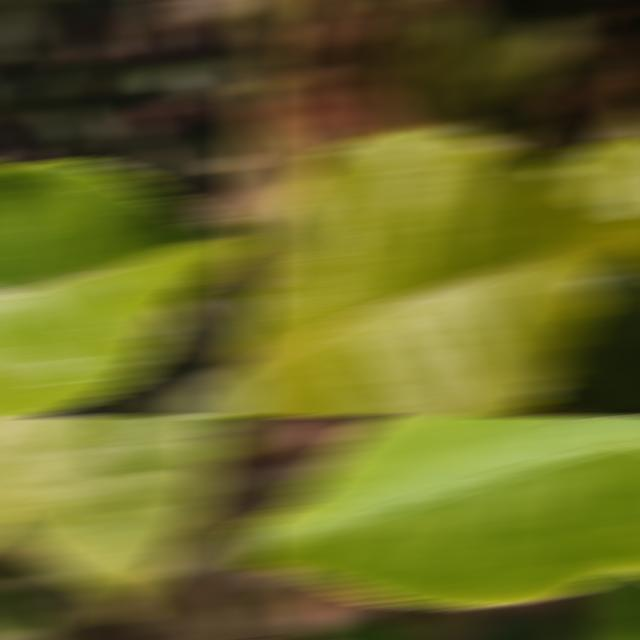Leaf: (238, 128, 640, 415), (238, 417, 640, 606), (0, 159, 253, 415), (0, 417, 222, 620), (527, 250, 640, 415), (238, 110, 313, 294), (429, 26, 526, 134), (370, 5, 450, 123), (543, 137, 640, 216), (164, 366, 260, 415), (456, 607, 572, 639), (238, 1, 295, 51), (0, 590, 57, 639), (305, 623, 434, 639)
